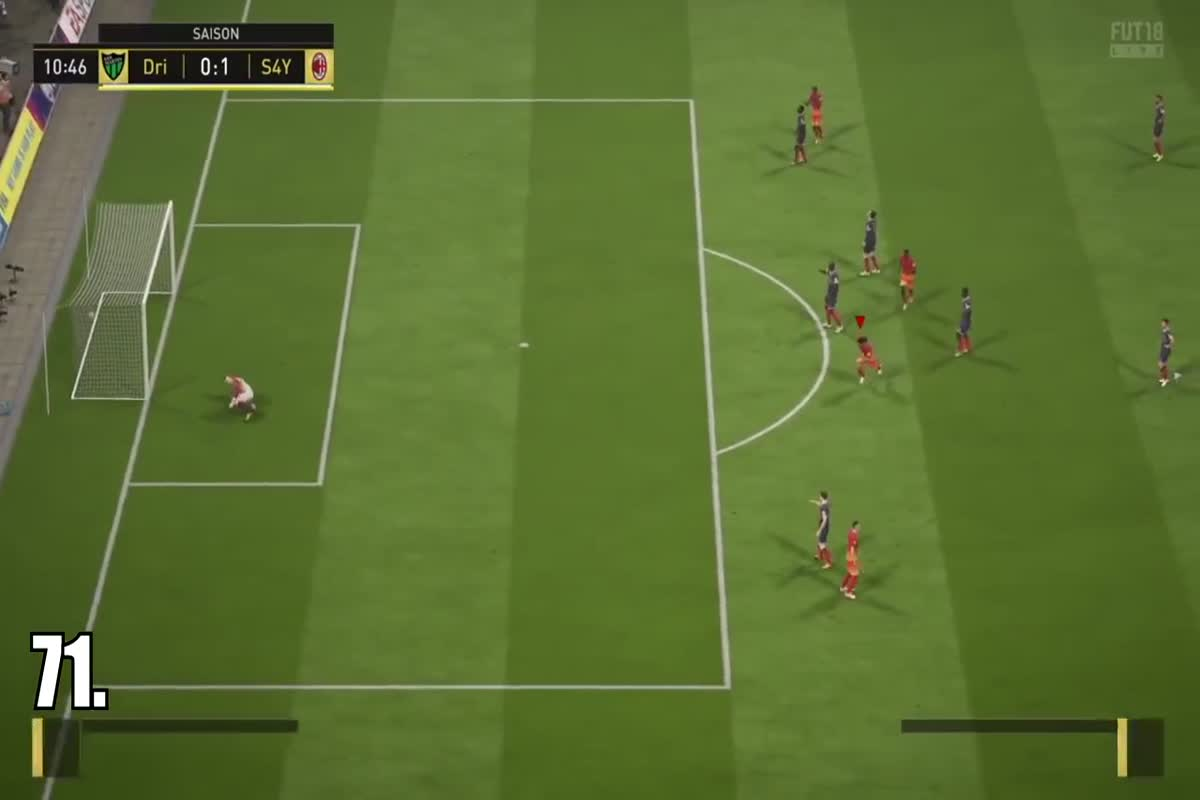ball: (81, 308, 103, 325)
